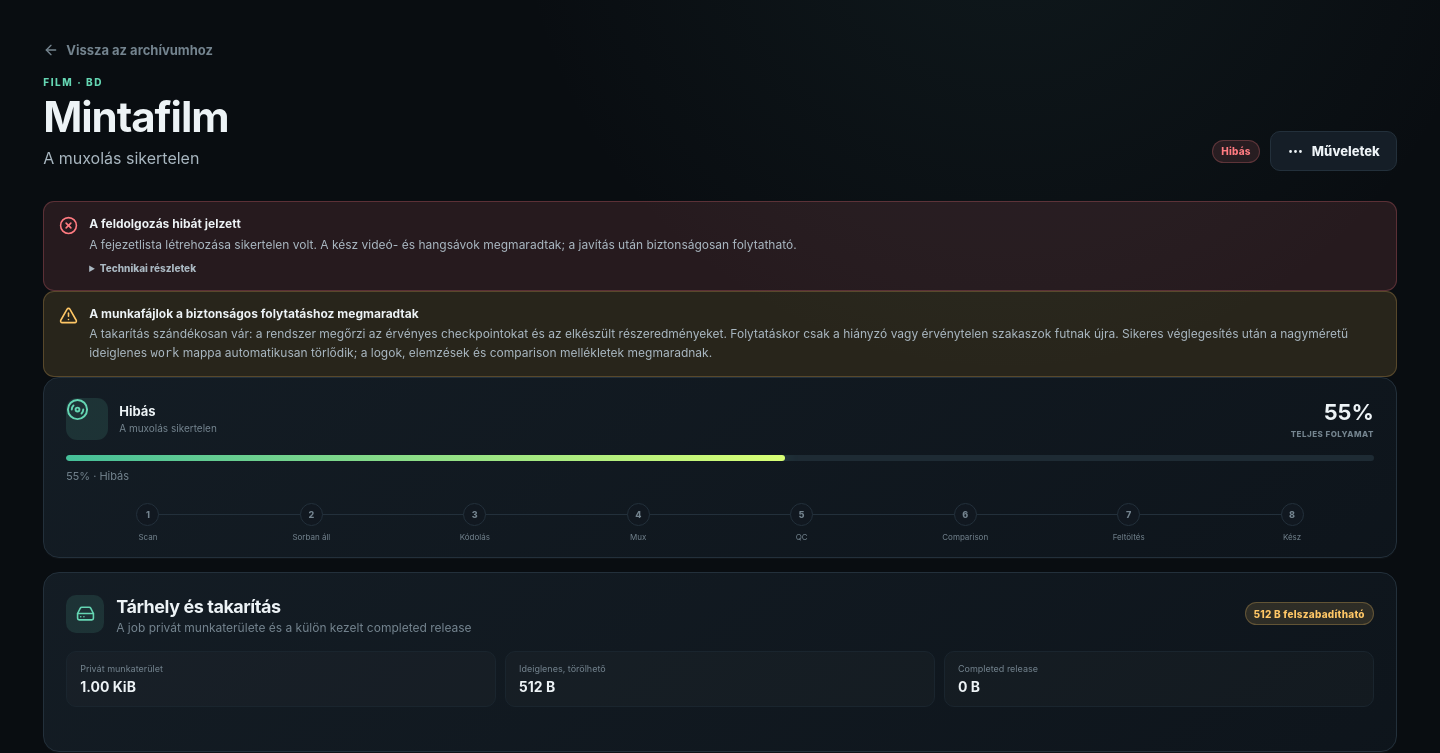
it: JobDetailPage failed-job retry › confirms retry, reuses checkpoints and refreshes the job navigation state
Check: the text "A fejezetlista létrehozása sikertelen volt" is shown, box [89,237,797,252]
Check: the text "A munkafájlok a biztonságos folytatáshoz megmaradtak" is shown, box [89,306,419,321]
Click the heading "Műveletek" at (1333, 151), box [1270,131,1397,171]
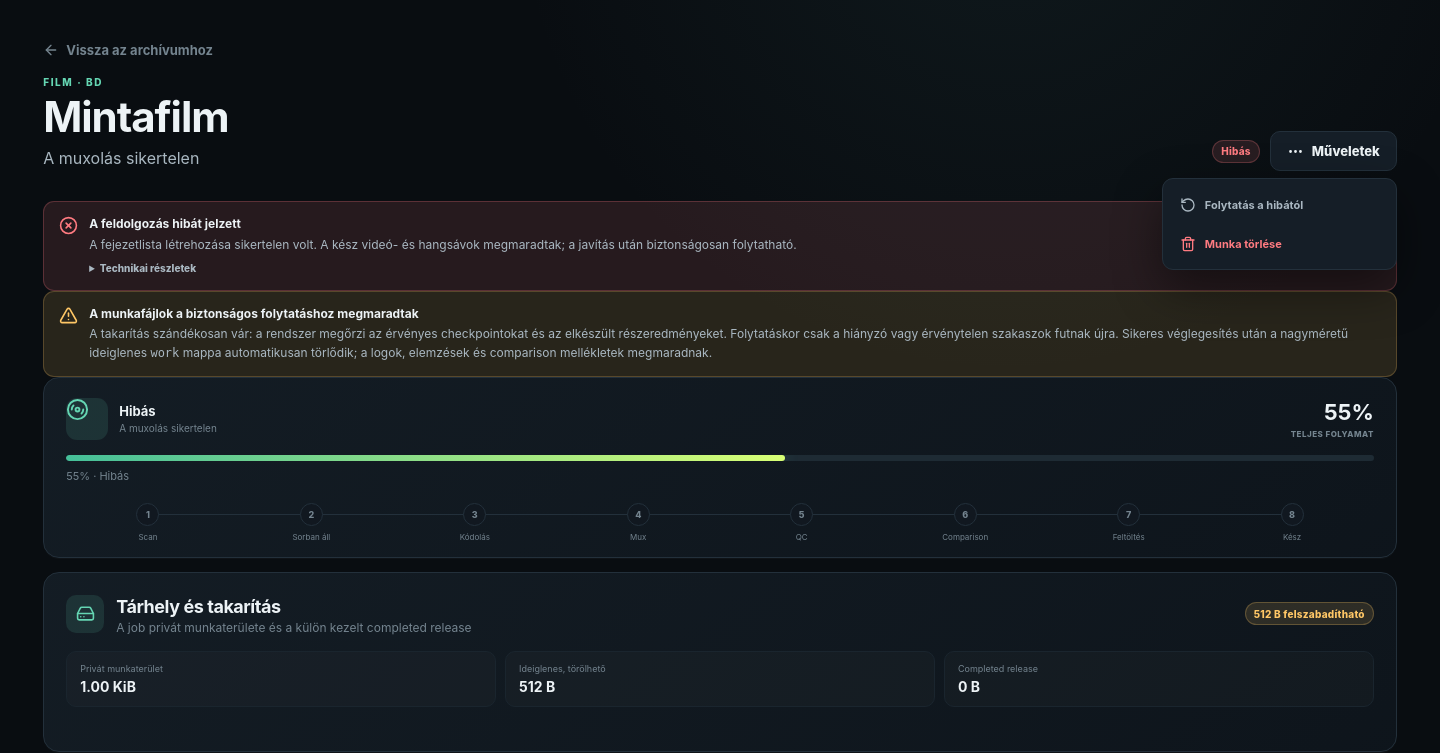
Click the button "Folytatás a hibától" at (1279, 205), box [1169,185,1390,224]
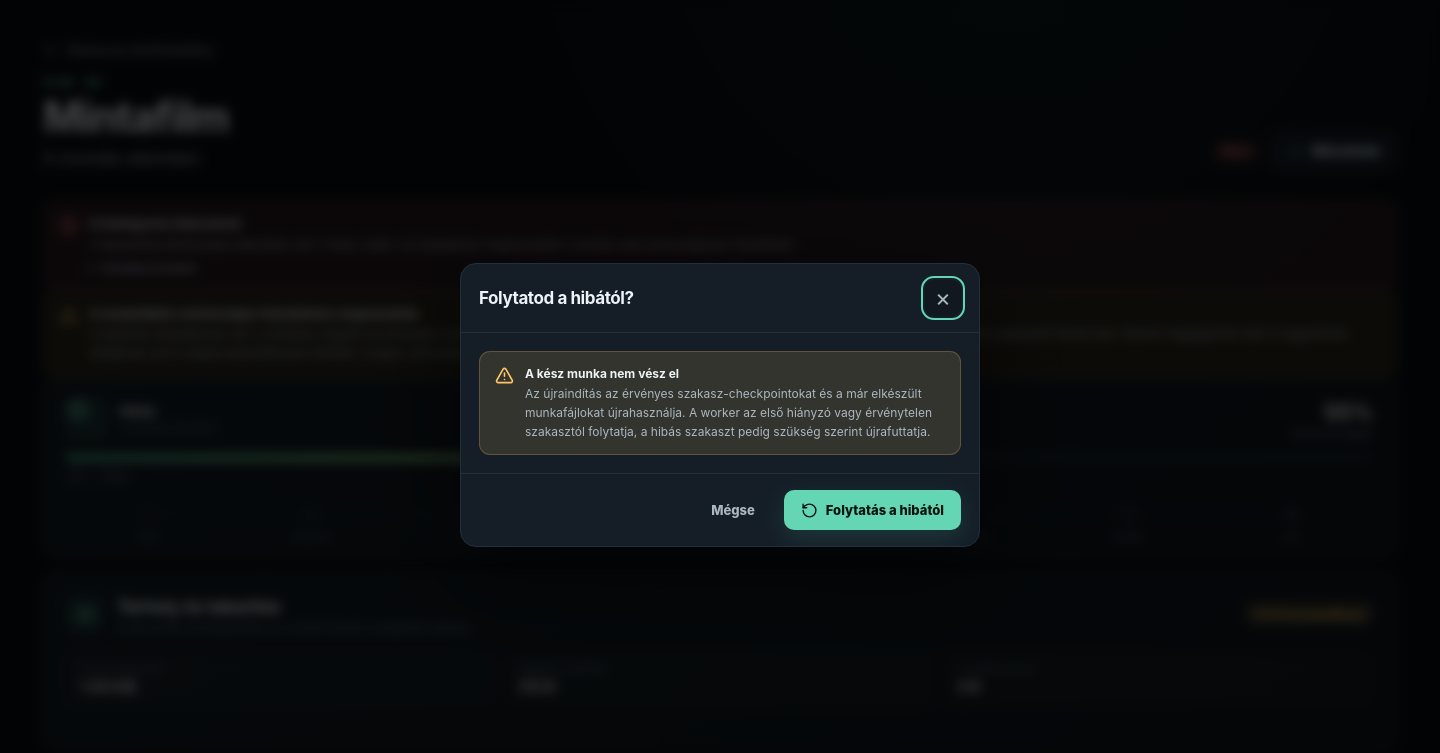
Check: the text "A kész munka nem vész el" is shown, box [525,366,679,381]
Check: the text "érvényes szakasz-checkpointokat" is shown, box [525,386,932,439]
Click the button "Folytatás a hibától" at (872, 510), box [784,490,961,530]
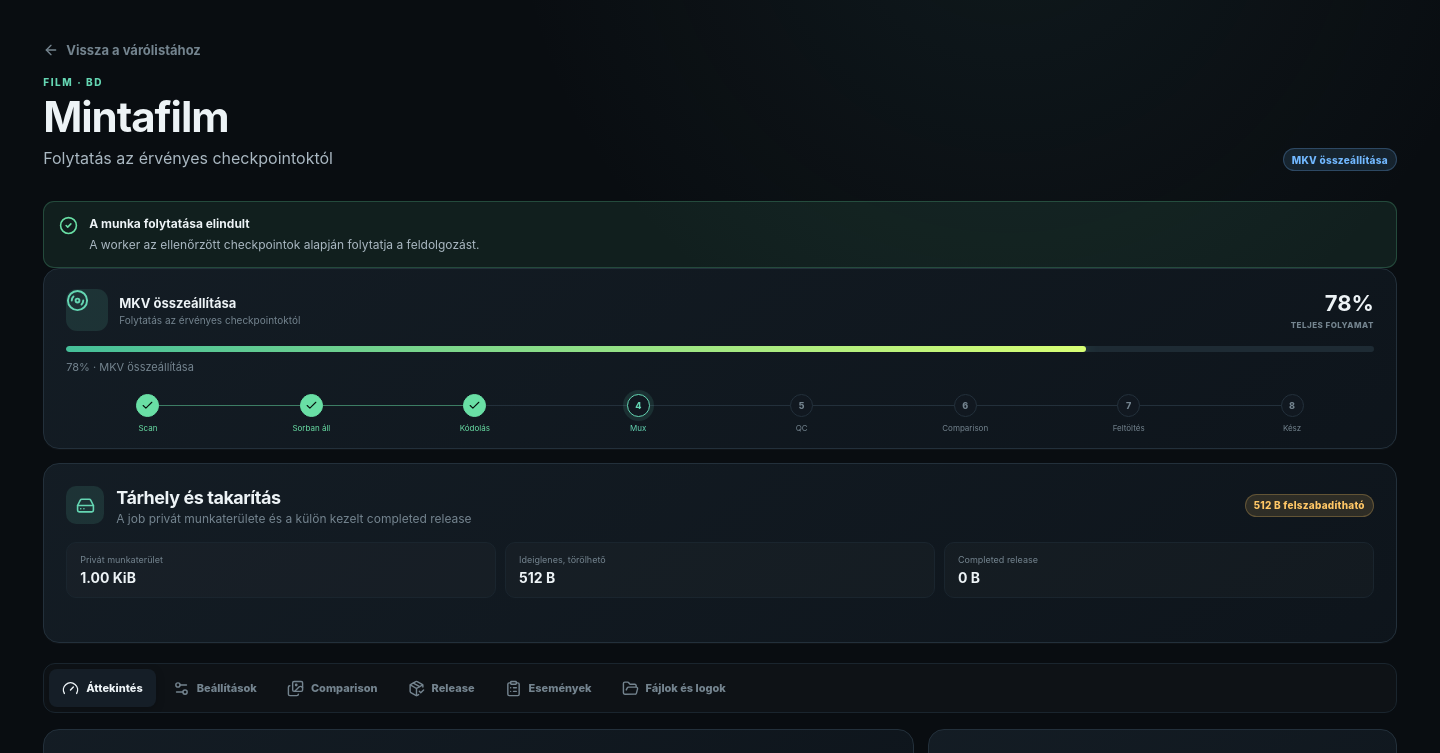
Check: the text "A munka folytatása elindult" is shown, box [89,216,250,231]
Check: the text "78%" is shown, box [1325,290,1374,316]
Check: the heading "Folytatod a hibától?" is gone
